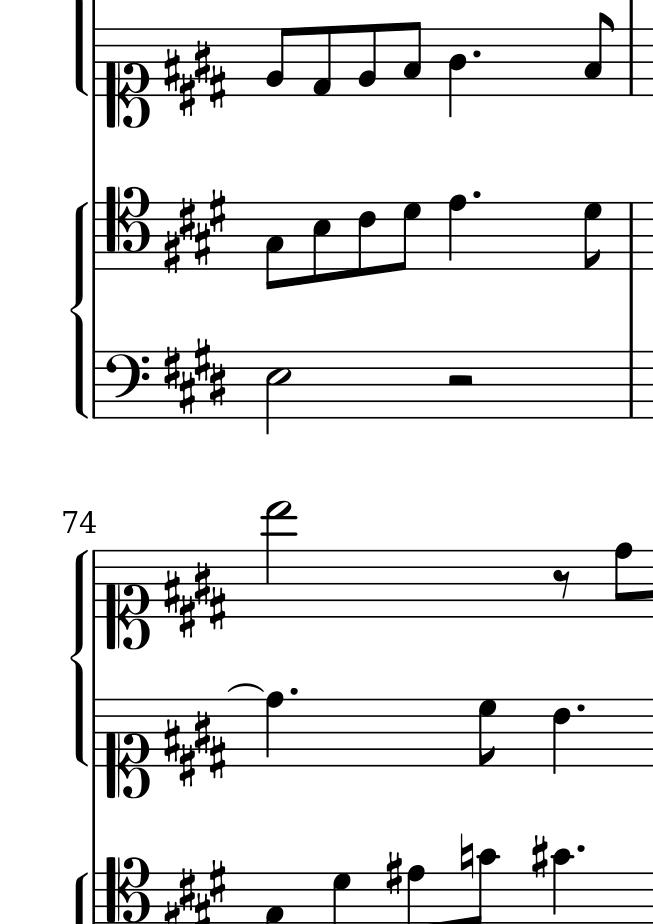2_13: (262, 500, 297, 621)
2_5: (264, 350, 291, 434)
4: (79, 509, 97, 536)
4_4: (447, 27, 468, 121)
4_6: (552, 697, 571, 776)
4_8: (447, 193, 468, 271), (264, 690, 284, 768)
7: (63, 506, 78, 535)
8_1: (310, 24, 334, 98)
8_2: (265, 26, 293, 96), (357, 23, 378, 97)
8_3: (582, 12, 612, 99), (264, 201, 285, 292), (402, 20, 423, 98)
8_5: (311, 200, 331, 285)
8_6: (357, 201, 377, 278)
8_7: (394, 200, 421, 272), (477, 697, 498, 768), (582, 201, 603, 271)
8_8: (613, 541, 636, 619)
Brace: (69, 546, 89, 770), (70, 197, 89, 418)
E_S: (161, 187, 227, 275), (161, 711, 228, 791), (161, 560, 228, 638), (161, 339, 229, 415), (161, 38, 226, 116)
Fclef: (103, 348, 149, 419)
Natural: (458, 832, 475, 881)
Rests2: (446, 373, 475, 388)
Rests8: (552, 568, 573, 601)
Sharp: (531, 833, 549, 881), (385, 850, 403, 897)
Single_barline: (623, 202, 640, 270), (622, 27, 639, 94), (623, 350, 640, 417), (87, 550, 103, 617), (88, 201, 103, 271), (88, 352, 103, 418), (88, 700, 103, 766), (88, 29, 102, 97)
Slur: (227, 682, 264, 694)
Soprano_Cclef: (104, 695, 150, 796), (105, 26, 150, 128), (106, 550, 149, 650)
Tensor_Cclef: (103, 184, 150, 272)
dot: (469, 46, 483, 61), (573, 701, 587, 716), (470, 188, 483, 201), (574, 842, 587, 855), (287, 686, 299, 698)
